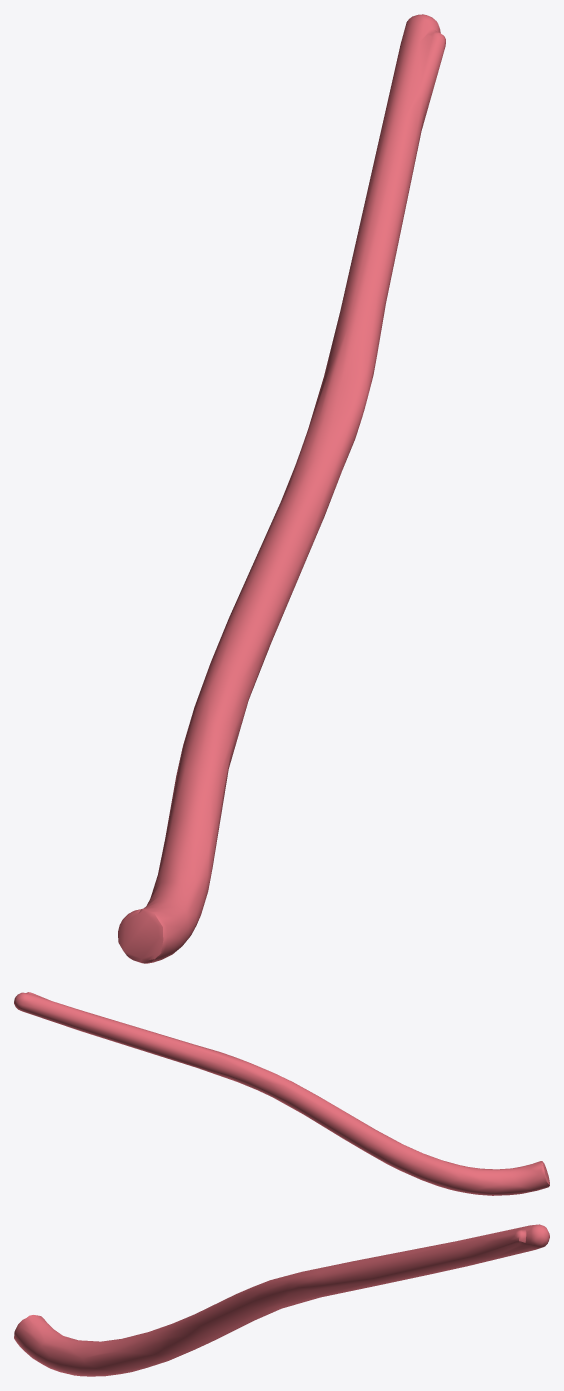
The model's file is fma14790_fj3444.glb.
3 renders of one model, top to bottom at view 1: azimuth 30°, elevation 25°; view 2: azimuth 150°, elevation 25°; view 3: azimuth 270°, elevation 25°, orthographic. The views are drawn at different scales.
Visible parts, largest first — view 1: FMA14790_FJ3444; view 2: FMA14790_FJ3444; view 3: FMA14790_FJ3444.
Boxes of the visible parts, x1=… form: FMA14790_FJ3444: x1=118, y1=14, x2=445, y2=963; FMA14790_FJ3444: x1=14, y1=992, x2=549, y2=1195; FMA14790_FJ3444: x1=14, y1=1224, x2=549, y2=1376.
Bounding box in the file's own units: 0.0208 × 0.0148 × 0.0209.
